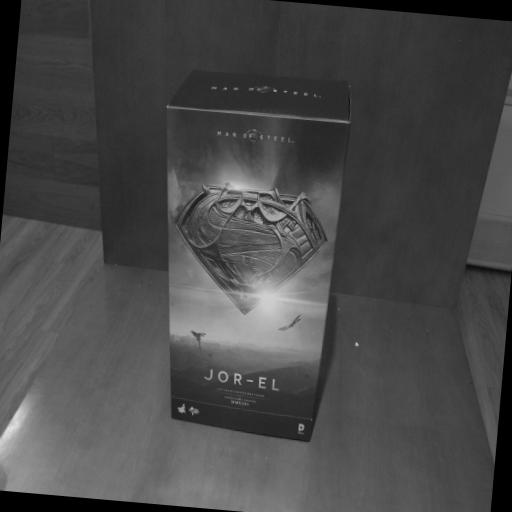superman: (140, 64, 356, 445)
